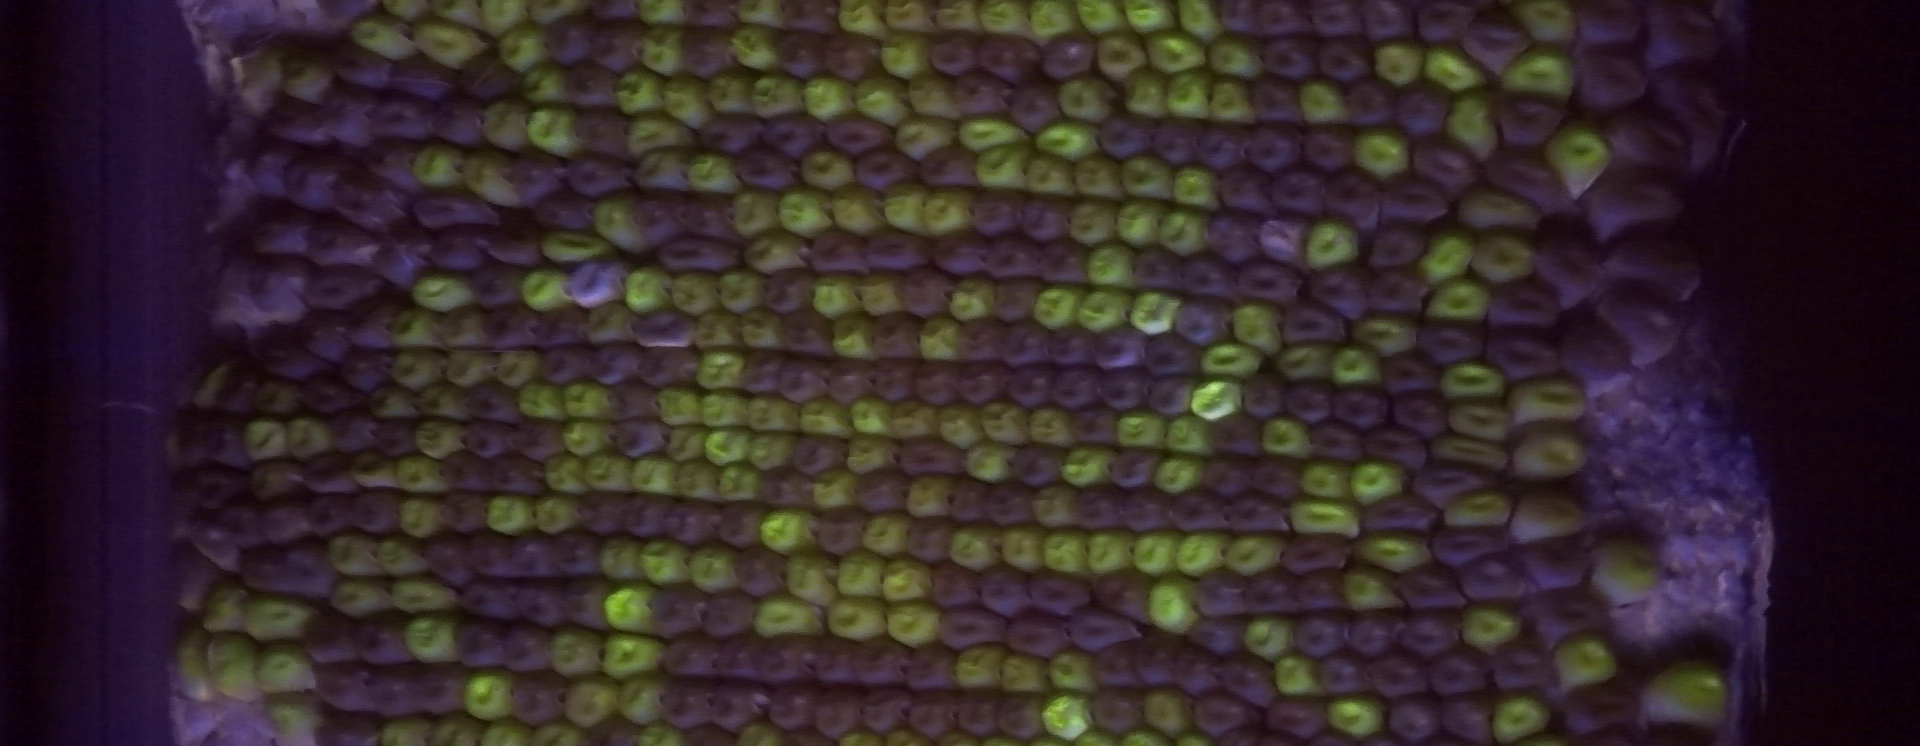fluorescent: (1635, 652, 1738, 744), (1537, 113, 1618, 205), (1584, 534, 1671, 619), (1502, 418, 1593, 489), (1498, 40, 1583, 109), (1452, 181, 1549, 241), (405, 13, 500, 75), (238, 590, 331, 652), (1501, 374, 1596, 432), (1545, 628, 1626, 696), (1439, 85, 1505, 167), (202, 626, 269, 706), (1501, 489, 1592, 548), (167, 622, 222, 713), (1351, 526, 1441, 579), (1464, 225, 1540, 289), (749, 590, 833, 648), (1455, 595, 1531, 658), (263, 686, 342, 746), (1417, 39, 1495, 99), (620, 108, 707, 162), (249, 638, 322, 702), (1337, 559, 1414, 619), (1433, 352, 1515, 408), (459, 145, 527, 213), (1145, 570, 1211, 639), (1427, 428, 1518, 478), (820, 590, 896, 650), (1435, 483, 1520, 537), (557, 673, 629, 735), (654, 69, 722, 134), (1344, 120, 1416, 183), (1284, 489, 1367, 543), (1344, 307, 1424, 363), (588, 190, 651, 258), (1501, 1, 1584, 53), (1224, 296, 1293, 359), (1236, 608, 1305, 669), (343, 10, 420, 65), (1037, 688, 1112, 745), (756, 503, 825, 563), (545, 621, 611, 684), (1413, 224, 1480, 285), (1136, 682, 1206, 741), (888, 113, 964, 167), (1485, 688, 1556, 746), (846, 71, 918, 127), (596, 630, 673, 682), (1418, 273, 1495, 326), (1320, 688, 1397, 741), (522, 102, 587, 164), (602, 579, 667, 642), (400, 608, 465, 670), (947, 637, 1015, 696), (951, 111, 1037, 158), (1053, 73, 1125, 129), (683, 537, 747, 599), (1302, 213, 1367, 274), (1204, 29, 1275, 85), (1030, 116, 1109, 165), (475, 96, 539, 157), (825, 181, 890, 241), (947, 519, 1011, 579), (1138, 24, 1210, 78), (737, 228, 818, 276), (778, 549, 841, 609), (276, 51, 340, 110), (1367, 33, 1433, 91), (969, 138, 1037, 194), (879, 594, 948, 649), (1041, 644, 1109, 699), (629, 145, 699, 198), (384, 572, 465, 619), (775, 184, 840, 241), (1114, 153, 1180, 209), (1200, 75, 1266, 131), (407, 269, 489, 315), (877, 29, 945, 83), (516, 263, 584, 317), (323, 575, 397, 625), (245, 456, 315, 508), (834, 545, 894, 606), (200, 579, 260, 641), (637, 532, 699, 590), (992, 521, 1056, 578), (1073, 283, 1138, 339), (855, 508, 920, 565), (490, 20, 556, 75), (744, 69, 811, 124), (408, 138, 474, 194), (323, 529, 389, 584), (458, 666, 524, 722), (1325, 339, 1391, 394), (796, 72, 864, 125), (576, 299, 644, 352), (1187, 370, 1248, 429), (973, 397, 1037, 453), (876, 551, 939, 608), (1292, 73, 1356, 130), (1255, 409, 1319, 465), (636, 20, 694, 80), (693, 341, 753, 399), (933, 397, 993, 456), (1130, 526, 1191, 583), (1092, 27, 1155, 83), (620, 261, 682, 317), (725, 183, 789, 238), (1347, 454, 1411, 510), (479, 488, 544, 541), (725, 21, 791, 73), (1220, 530, 1291, 579), (840, 429, 907, 480), (877, 180, 936, 239), (535, 228, 623, 267), (1118, 64, 1176, 124), (920, 183, 980, 240), (1161, 65, 1217, 126), (1064, 196, 1125, 252), (610, 67, 673, 121), (1173, 528, 1237, 582), (804, 268, 869, 321), (1111, 402, 1176, 454), (1442, 394, 1517, 440), (1113, 195, 1171, 254), (235, 40, 295, 97), (1155, 205, 1216, 260), (553, 414, 622, 463), (391, 489, 454, 541), (1195, 338, 1269, 383), (1019, 149, 1085, 200), (709, 459, 775, 510), (371, 532, 437, 582), (913, 310, 971, 367), (1082, 238, 1142, 293), (943, 271, 1003, 326), (1082, 524, 1142, 579), (996, 649, 1056, 704), (700, 67, 762, 121), (878, 394, 945, 443), (904, 71, 967, 122), (797, 145, 862, 195), (793, 393, 858, 443), (683, 149, 749, 198), (1168, 160, 1227, 216), (1127, 285, 1185, 341), (741, 390, 807, 439), (670, 454, 729, 510), (1026, 281, 1086, 334), (1040, 526, 1100, 579), (665, 267, 727, 318), (238, 414, 300, 465), (626, 450, 688, 501), (407, 414, 470, 464), (1296, 457, 1360, 506), (596, 533, 654, 588), (1269, 650, 1327, 704), (516, 59, 576, 111), (1059, 440, 1119, 492), (1070, 151, 1131, 202), (246, 375, 313, 421), (387, 452, 454, 499), (804, 465, 868, 514), (827, 311, 883, 366), (388, 343, 448, 394), (1029, 479, 1089, 530), (842, 393, 904, 443), (440, 345, 502, 394), (283, 412, 339, 465), (615, 671, 671, 725), (735, 305, 793, 356), (1158, 409, 1217, 461), (347, 443, 405, 495), (579, 447, 638, 499), (558, 377, 618, 428), (694, 383, 756, 432), (432, 304, 495, 352), (409, 379, 476, 423), (713, 266, 769, 318), (691, 307, 754, 354), (528, 490, 585, 541), (1022, 403, 1081, 453), (958, 437, 1016, 488), (853, 269, 913, 318), (651, 381, 711, 430), (1149, 450, 1209, 499), (743, 428, 804, 475), (516, 376, 572, 428), (901, 472, 960, 521), (699, 424, 760, 470), (189, 359, 242, 412), (541, 450, 598, 500), (388, 303, 447, 350), (360, 379, 424, 423), (1025, 1, 1087, 43), (1176, 1, 1231, 48), (661, 419, 711, 468), (493, 343, 545, 391), (1071, 1, 1131, 42), (972, 1, 1040, 37), (157, 423, 193, 488), (376, 709, 441, 746), (422, 710, 489, 746), (525, 717, 599, 746), (1120, 1, 1183, 36), (831, 1, 891, 37), (729, 1, 797, 32), (473, 717, 542, 746), (880, 1, 939, 36), (628, 717, 696, 746), (725, 718, 795, 746), (631, 1, 698, 29), (928, 1, 984, 34)
nonfluorescent: (1584, 160, 1703, 243), (1597, 227, 1713, 309), (1592, 274, 1695, 361), (1594, 107, 1695, 176), (1477, 145, 1572, 217), (1547, 307, 1636, 385), (1633, 1, 1716, 85), (186, 500, 273, 575), (1526, 234, 1598, 314), (1566, 42, 1646, 110), (169, 543, 240, 619), (1318, 164, 1391, 234), (1511, 532, 1594, 593), (811, 26, 888, 91), (1489, 86, 1566, 151), (403, 185, 503, 234), (1460, 10, 1531, 78), (1523, 592, 1602, 653), (1407, 459, 1502, 510), (451, 45, 528, 107), (1483, 321, 1555, 386), (244, 132, 306, 207), (1564, 1, 1644, 59), (279, 535, 347, 604), (1482, 278, 1565, 333), (1298, 262, 1371, 323), (178, 454, 252, 514), (1359, 261, 1435, 320), (278, 149, 347, 214), (351, 605, 422, 668), (970, 29, 1044, 88), (1485, 636, 1555, 698), (356, 658, 426, 720), (1404, 138, 1482, 195), (1224, 256, 1307, 309), (416, 527, 482, 592), (324, 37, 398, 94), (851, 630, 916, 695), (1215, 648, 1282, 710), (818, 108, 898, 160), (262, 92, 333, 151), (769, 21, 831, 87), (673, 180, 740, 243), (1021, 561, 1096, 616), (1357, 491, 1440, 540), (1414, 317, 1487, 374), (327, 176, 400, 232), (1457, 548, 1531, 603), (920, 22, 987, 82), (725, 543, 792, 603), (1089, 565, 1160, 621), (1386, 606, 1466, 657), (1262, 167, 1335, 222), (338, 296, 410, 352), (1386, 77, 1450, 140), (989, 316, 1054, 377), (298, 605, 362, 666), (1033, 27, 1100, 87), (1393, 560, 1468, 612), (1378, 170, 1449, 225), (1423, 644, 1494, 699), (647, 584, 709, 647), (312, 89, 377, 149), (923, 552, 988, 612), (358, 136, 425, 194), (1275, 527, 1353, 576), (1133, 625, 1187, 696), (1276, 372, 1340, 432), (757, 632, 820, 692), (1237, 122, 1303, 180), (1092, 107, 1160, 163), (1292, 119, 1359, 175), (916, 138, 984, 194), (1160, 485, 1234, 535), (967, 184, 1027, 246), (1193, 563, 1255, 624), (504, 665, 567, 725), (864, 222, 936, 274), (807, 224, 873, 281), (311, 658, 378, 713), (587, 16, 647, 77), (675, 20, 735, 81), (1188, 118, 1249, 178), (467, 529, 530, 587), (651, 234, 742, 274), (561, 256, 627, 311), (996, 609, 1068, 659), (1427, 527, 1513, 568), (457, 575, 525, 627), (301, 220, 381, 266), (542, 10, 604, 69), (631, 185, 689, 246), (1207, 208, 1269, 267), (891, 432, 965, 481), (1032, 233, 1095, 290), (1134, 328, 1204, 380), (564, 104, 629, 159), (1254, 28, 1320, 82), (555, 58, 621, 111), (1141, 115, 1207, 169), (1138, 367, 1204, 421), (1302, 415, 1370, 467), (1089, 637, 1150, 695), (898, 681, 959, 739), (811, 502, 876, 556), (1329, 381, 1395, 434), (384, 56, 459, 103), (408, 658, 467, 717), (864, 305, 924, 363), (506, 526, 566, 583), (476, 223, 549, 271), (1069, 477, 1130, 533), (1240, 565, 1302, 621), (1338, 605, 1400, 661), (1288, 563, 1351, 619), (698, 586, 760, 641), (1354, 425, 1430, 470), (760, 107, 824, 160), (1216, 488, 1289, 534), (1362, 649, 1431, 698), (981, 232, 1046, 284), (549, 528, 613, 581), (1111, 481, 1177, 533), (1007, 77, 1064, 136), (1343, 75, 1402, 132), (1179, 246, 1238, 304), (980, 473, 1036, 533), (972, 559, 1032, 615), (902, 639, 959, 699), (664, 630, 724, 686), (1245, 73, 1308, 127), (947, 66, 1011, 118), (1276, 300, 1346, 348), (369, 89, 435, 140), (1167, 639, 1224, 697), (449, 616, 507, 674), (1131, 243, 1188, 301), (509, 149, 569, 205), (1016, 187, 1071, 247), (711, 496, 767, 556), (936, 604, 1007, 650), (697, 111, 771, 156), (418, 227, 492, 271), (481, 298, 544, 350), (1089, 320, 1151, 372), (1378, 345, 1442, 396), (1253, 212, 1310, 268), (633, 303, 699, 352), (1387, 387, 1453, 436), (773, 352, 831, 407), (811, 633, 864, 693), (249, 208, 311, 260), (1404, 2, 1479, 45), (733, 145, 797, 195), (372, 227, 429, 283), (659, 679, 715, 735), (1172, 294, 1229, 349), (323, 405, 381, 461), (1198, 447, 1256, 501), (629, 341, 699, 386), (851, 467, 917, 514), (1311, 32, 1373, 83), (485, 447, 546, 499), (656, 495, 719, 545), (1062, 609, 1136, 650), (906, 352, 962, 407), (616, 488, 671, 544), (516, 577, 569, 635), (558, 576, 616, 630), (762, 680, 820, 733), (531, 185, 591, 236), (344, 481, 404, 533), (1313, 649, 1373, 701), (295, 314, 358, 363), (535, 342, 598, 391), (949, 359, 1013, 407), (1284, 612, 1348, 660), (700, 680, 754, 736), (1210, 409, 1269, 461), (954, 306, 1000, 371), (427, 94, 487, 145), (203, 410, 252, 472), (1365, 218, 1428, 266), (1180, 612, 1248, 657), (1236, 364, 1288, 420), (1434, 696, 1498, 742), (1218, 168, 1276, 219), (1095, 364, 1152, 415), (933, 225, 992, 276), (849, 146, 918, 187), (900, 266, 954, 320), (943, 473, 996, 528), (1004, 355, 1056, 412), (820, 354, 877, 405), (775, 307, 834, 356), (736, 341, 785, 399), (1063, 401, 1122, 450), (572, 488, 631, 537), (1303, 1, 1374, 42), (1250, 1, 1319, 43), (585, 341, 647, 387), (1108, 439, 1161, 492), (331, 347, 397, 390), (986, 691, 1044, 739), (1259, 695, 1326, 736), (1247, 458, 1311, 501), (369, 413, 422, 464), (714, 633, 764, 688), (853, 685, 909, 735), (1044, 363, 1104, 408), (789, 431, 849, 477), (1008, 439, 1060, 490), (438, 446, 491, 497), (1089, 684, 1141, 735), (899, 514, 953, 565), (500, 621, 553, 671), (1356, 1, 1422, 42), (255, 336, 313, 381), (509, 412, 568, 457), (456, 416, 514, 462), (1191, 692, 1251, 736), (868, 355, 921, 405), (258, 495, 313, 543), (1387, 695, 1442, 742), (611, 415, 669, 461), (987, 274, 1040, 323), (238, 541, 287, 594), (302, 371, 362, 414), (307, 271, 377, 307), (1044, 327, 1100, 374), (569, 153, 626, 198), (533, 304, 589, 349), (760, 269, 818, 314), (440, 486, 490, 537), (465, 380, 518, 428), (808, 685, 860, 733), (302, 490, 355, 537), (756, 463, 806, 511), (467, 267, 525, 307), (951, 688, 999, 737), (302, 448, 349, 499), (601, 377, 650, 419), (1215, 1, 1261, 42)
